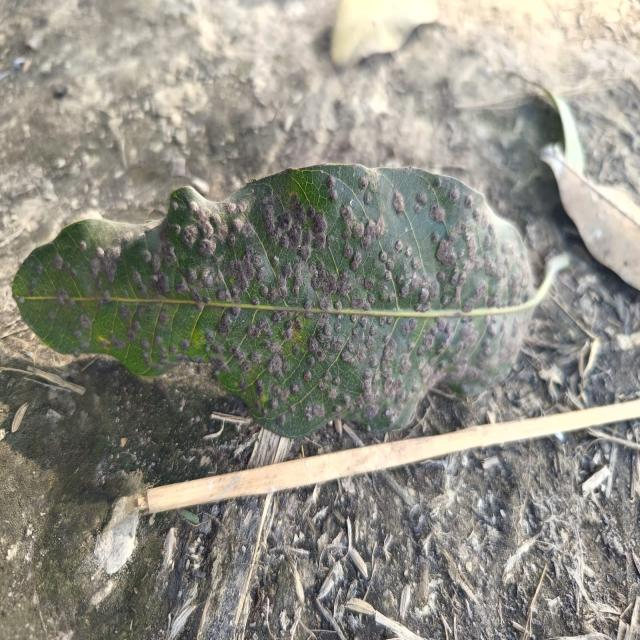gall midge: (186, 205, 450, 315), (250, 329, 433, 401)
